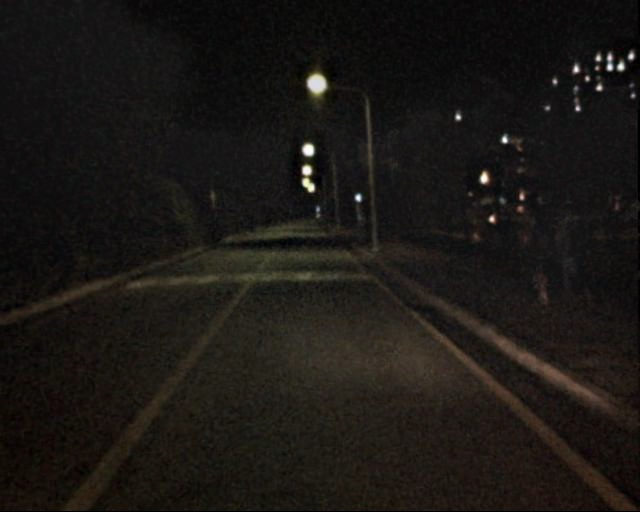person: (550, 206, 597, 310), (521, 211, 566, 312)
